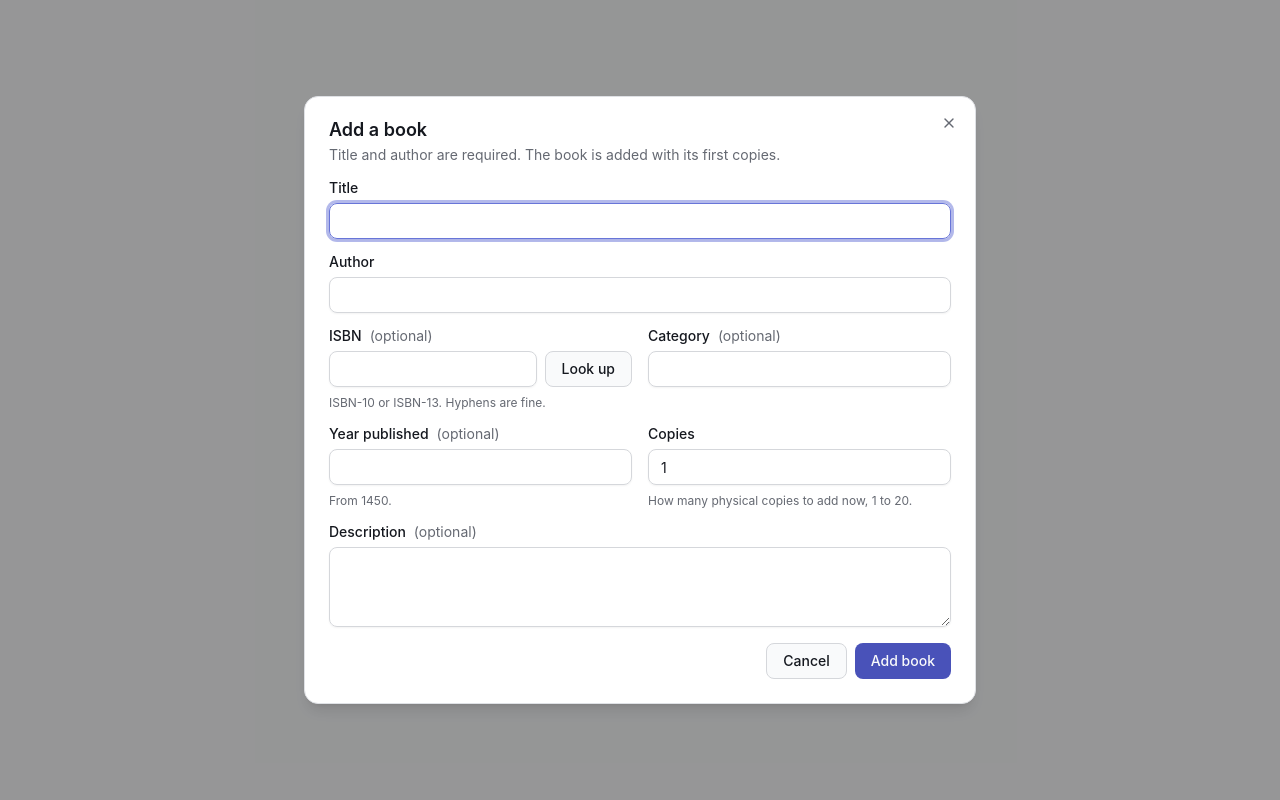
Test: BookFormDialog › puts isbn_taken on the ISBN field
Type "Dune" into the field labelled "Title" at (640, 221), box top-left (329, 203), bottom-right (951, 239)
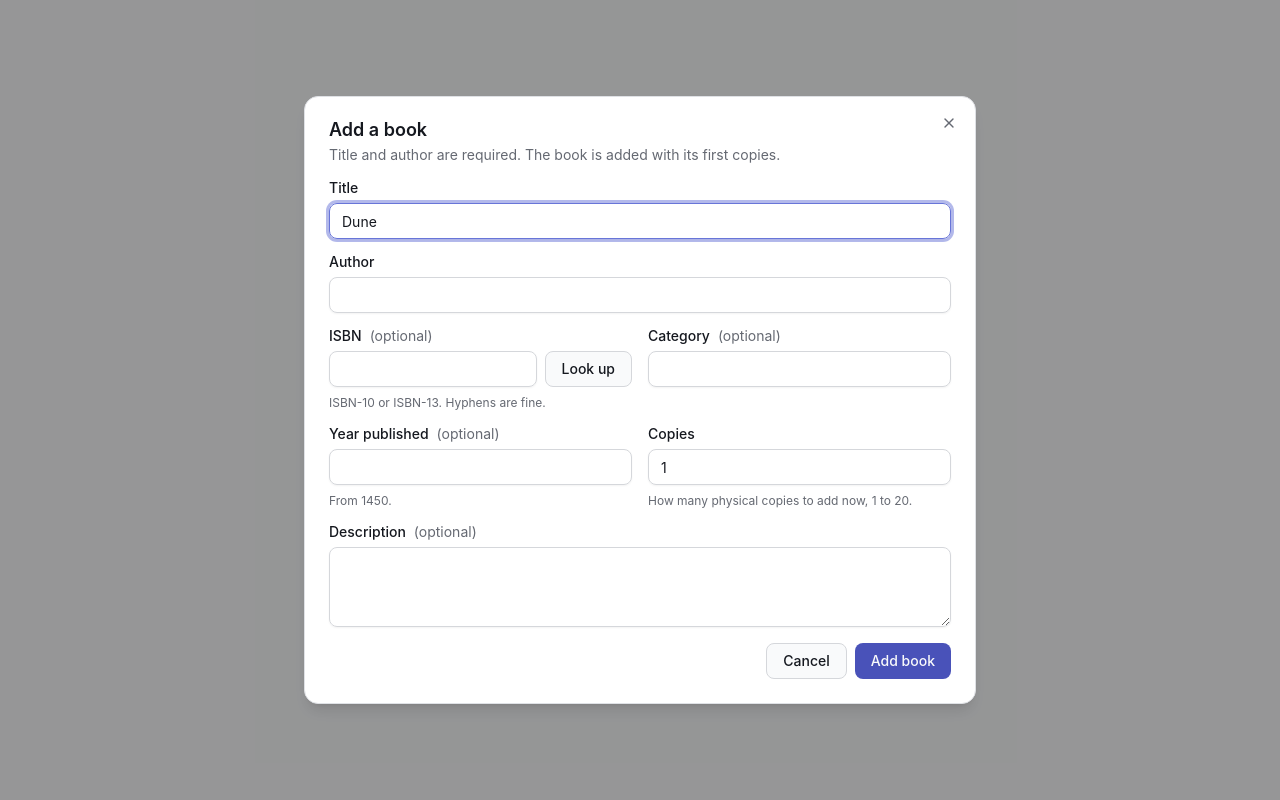
Type "Frank Herbert" into the field labelled "Author" at (640, 295), box top-left (329, 277), bottom-right (951, 313)
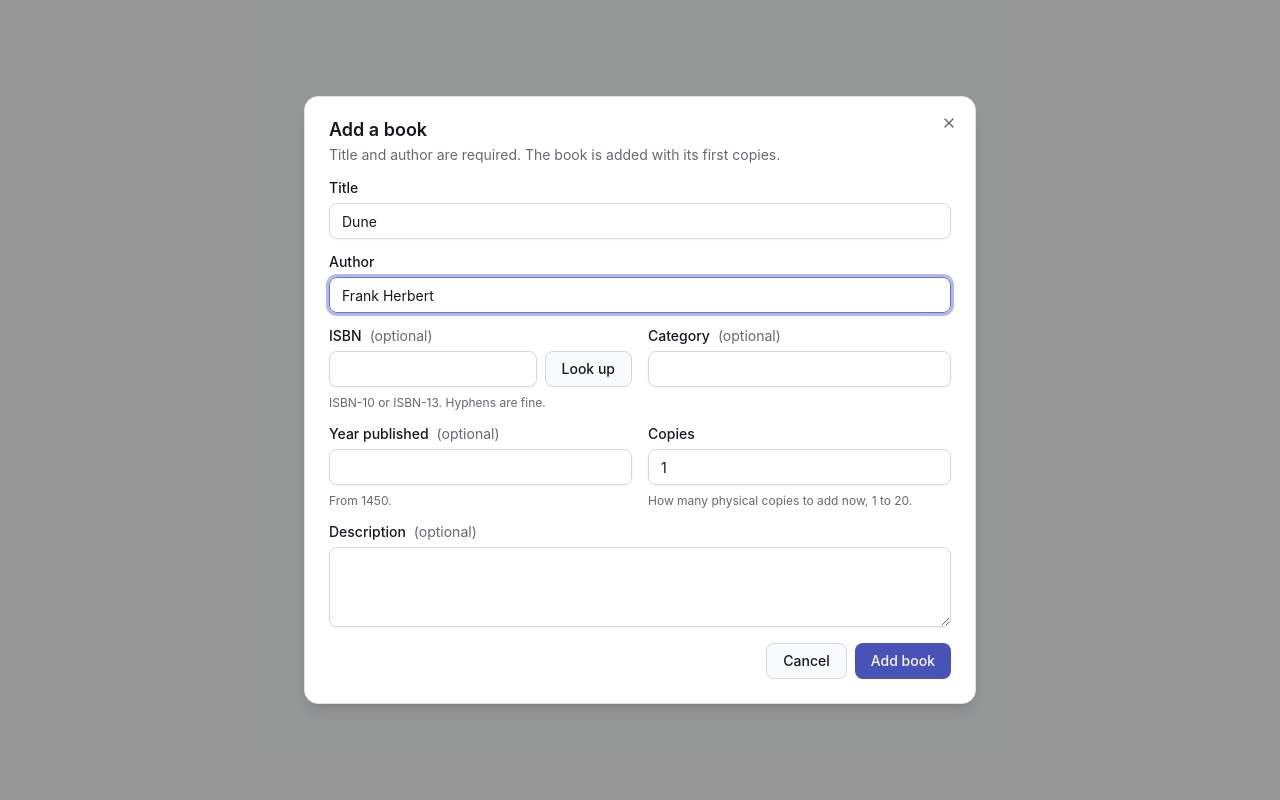
Type "0-441-17271-7" into the field labelled "ISBN (optional)" at (433, 369), box top-left (329, 351), bottom-right (536, 387)
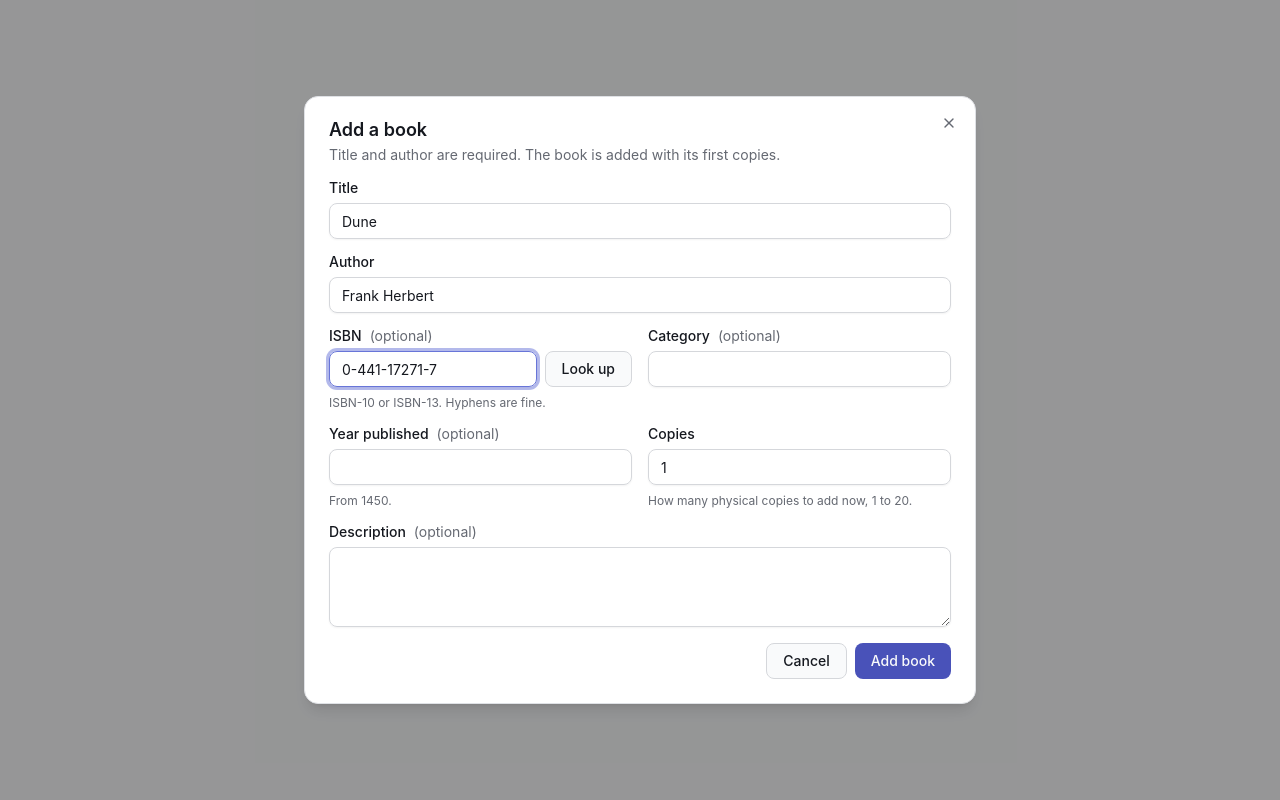
Click the button "Add book" at (903, 661), box top-left (855, 643), bottom-right (951, 679)
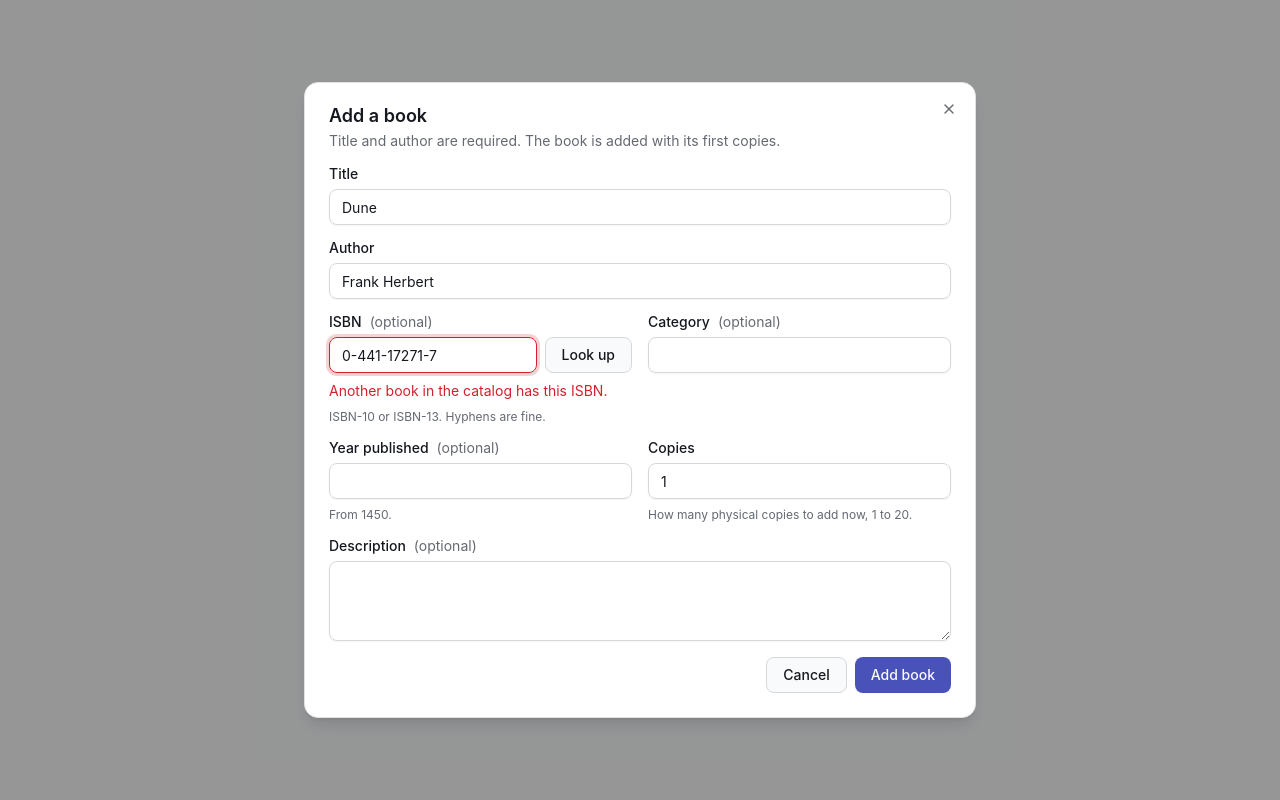
Expected: the text "Another book in the catalog has this ISBN." is shown, top-left (329, 381), bottom-right (632, 401)
